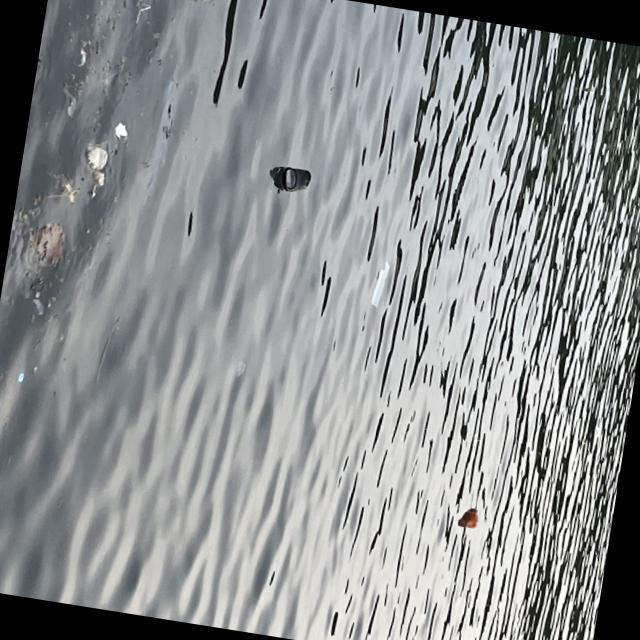plastic: (465, 508, 478, 528)
plastic bottle: (135, 77, 181, 196), (80, 140, 116, 170), (369, 261, 390, 310), (58, 85, 78, 117), (88, 172, 106, 200), (133, 2, 152, 26), (112, 122, 128, 140), (30, 298, 44, 318), (75, 48, 88, 68)
unknow: (40, 170, 82, 204), (278, 166, 314, 196), (196, 0, 221, 7)
